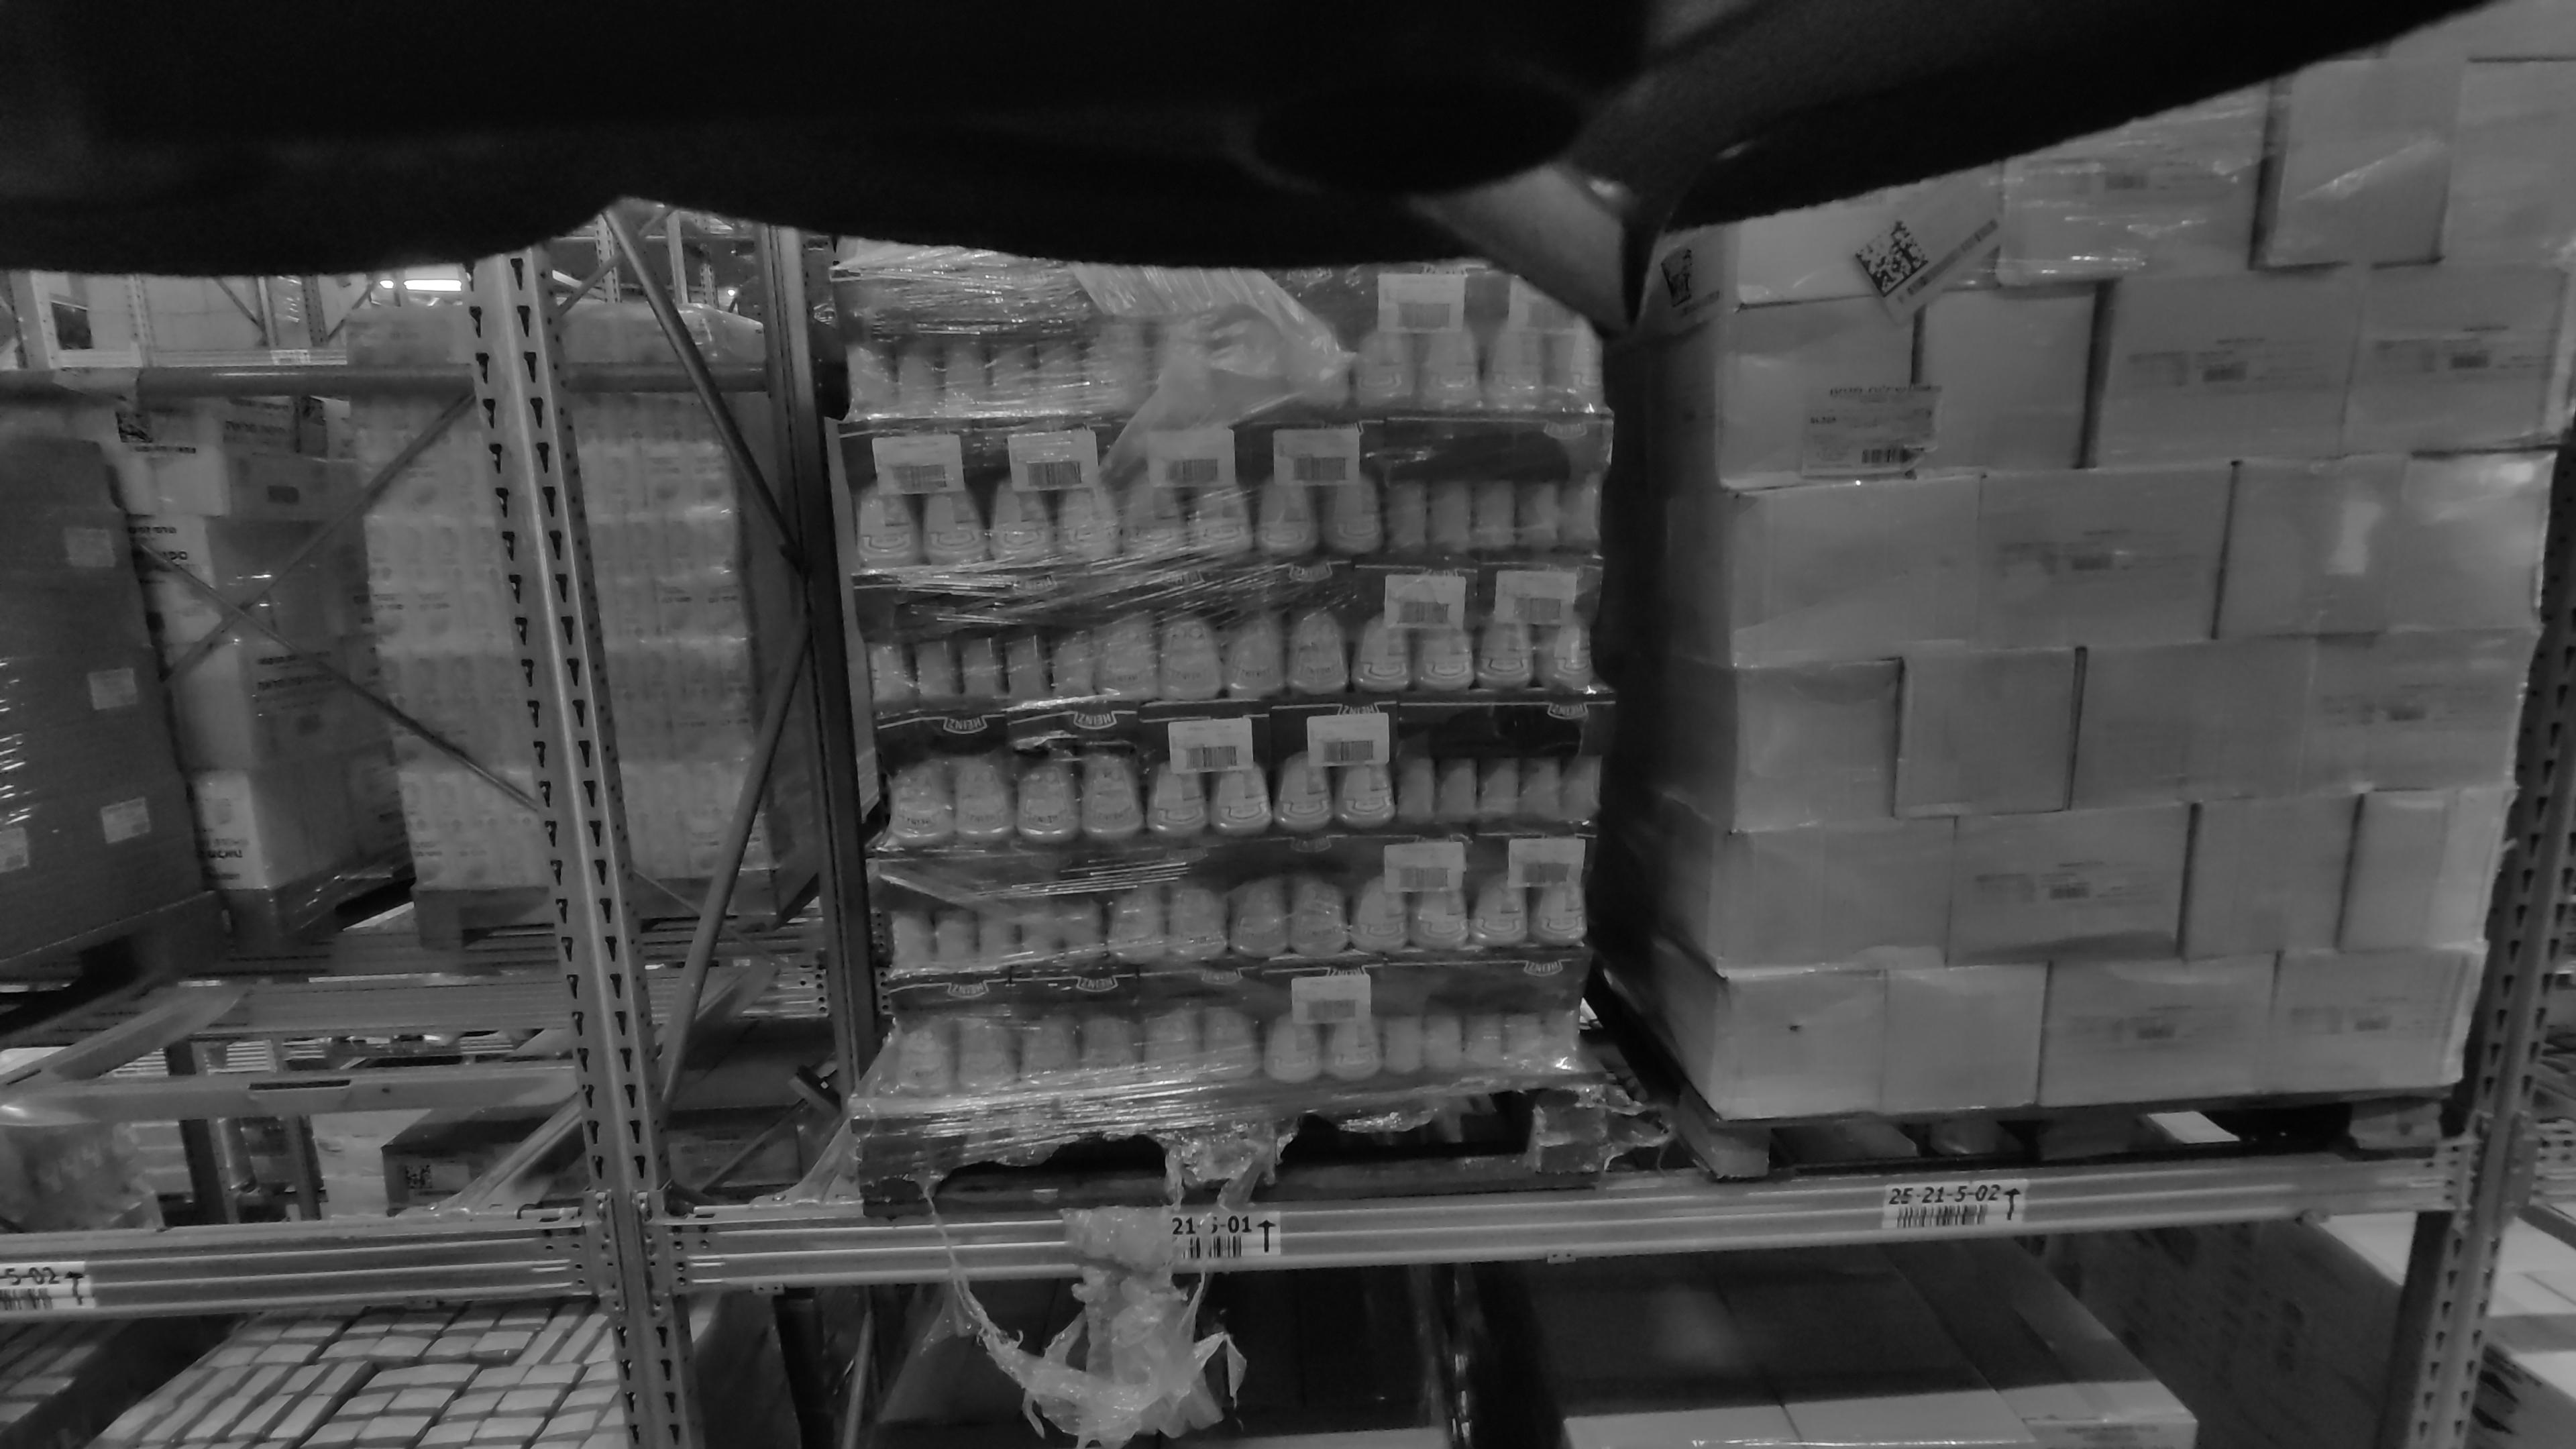empty-shelf: (0, 281, 485, 1231)
